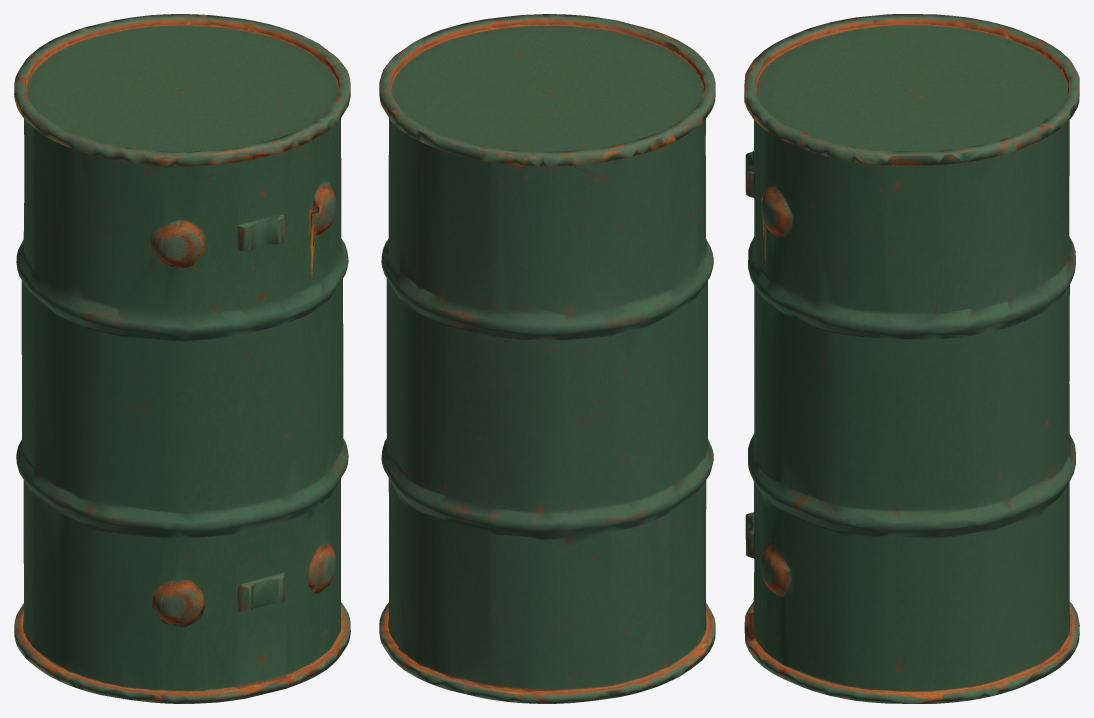
Rendered from barrel.glb.
3 renders of one model, left to right at view 1: azimuth 30°, elevation 25°; view 2: azimuth 150°, elevation 25°; view 3: azimuth 270°, elevation 25°, orthographic.
Size of the model in its own units: 1.05 by 1.9 by 1.05.
1 material, 1 textured.
